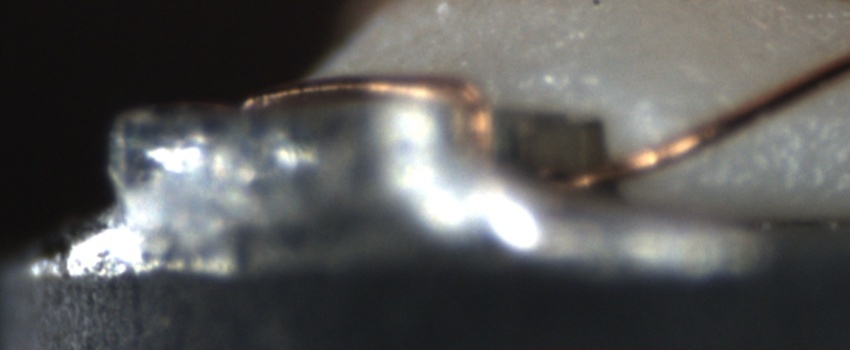TE: (224, 67, 504, 171)
